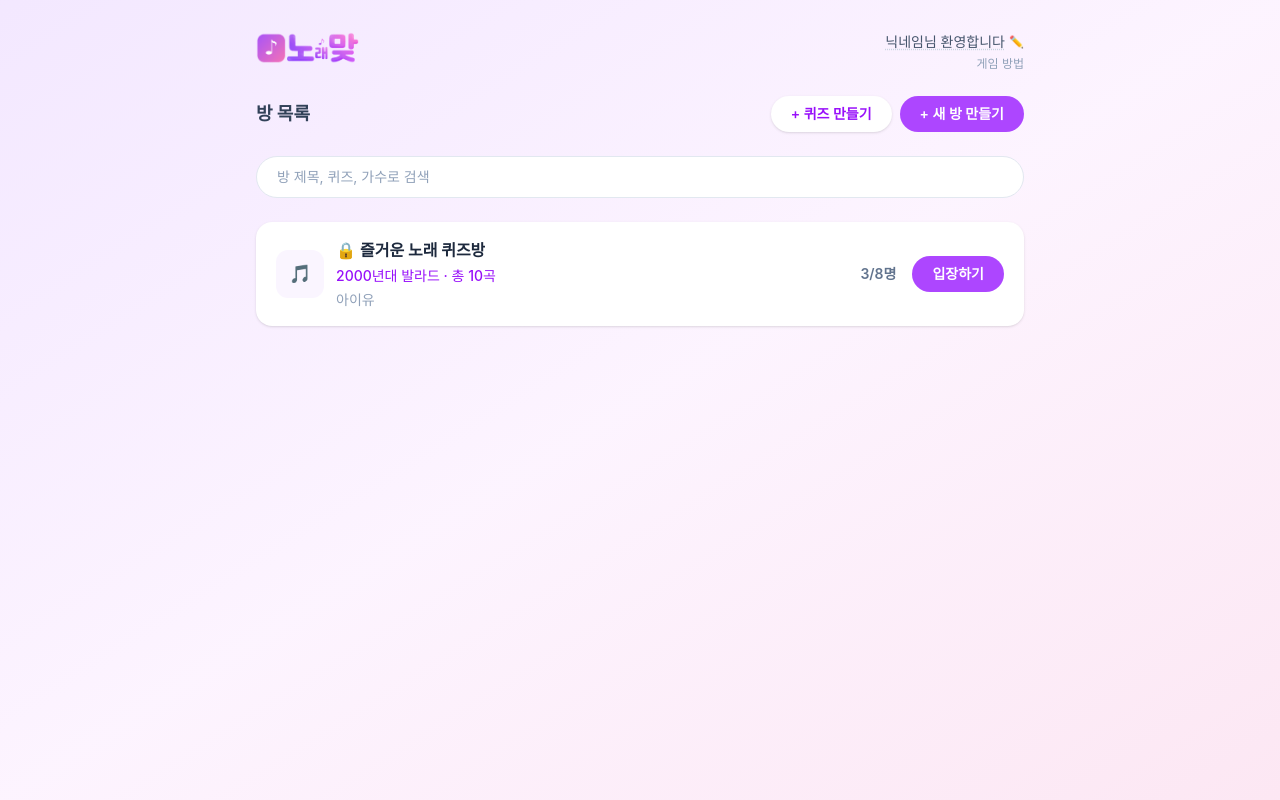
Test: RoomListPage › 비밀방 입장 실패 시 모달 안에 에러 메시지를 보여준다
Click the button "입장하기": (958, 274) [912, 256, 1004, 292]
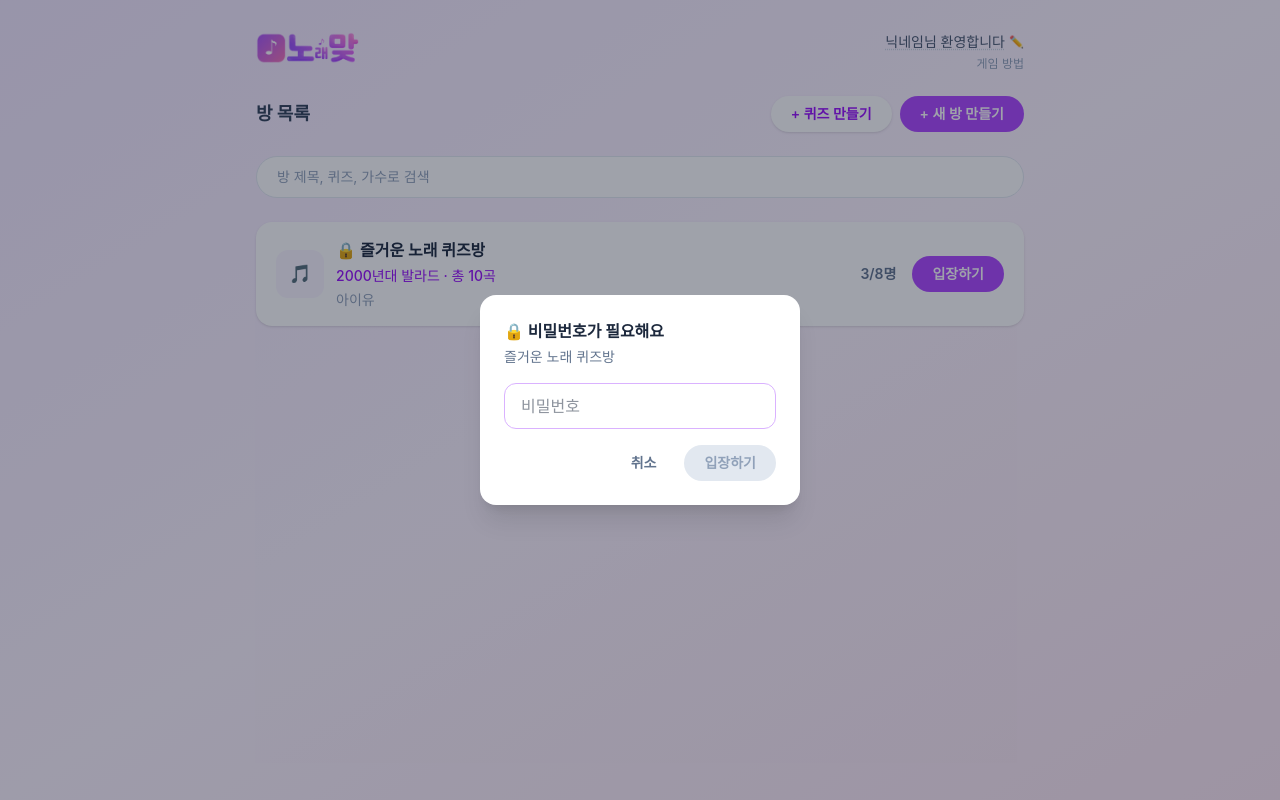
In the field with placeholder "비밀번호": (640, 406) [504, 383, 776, 429], type "wrong"
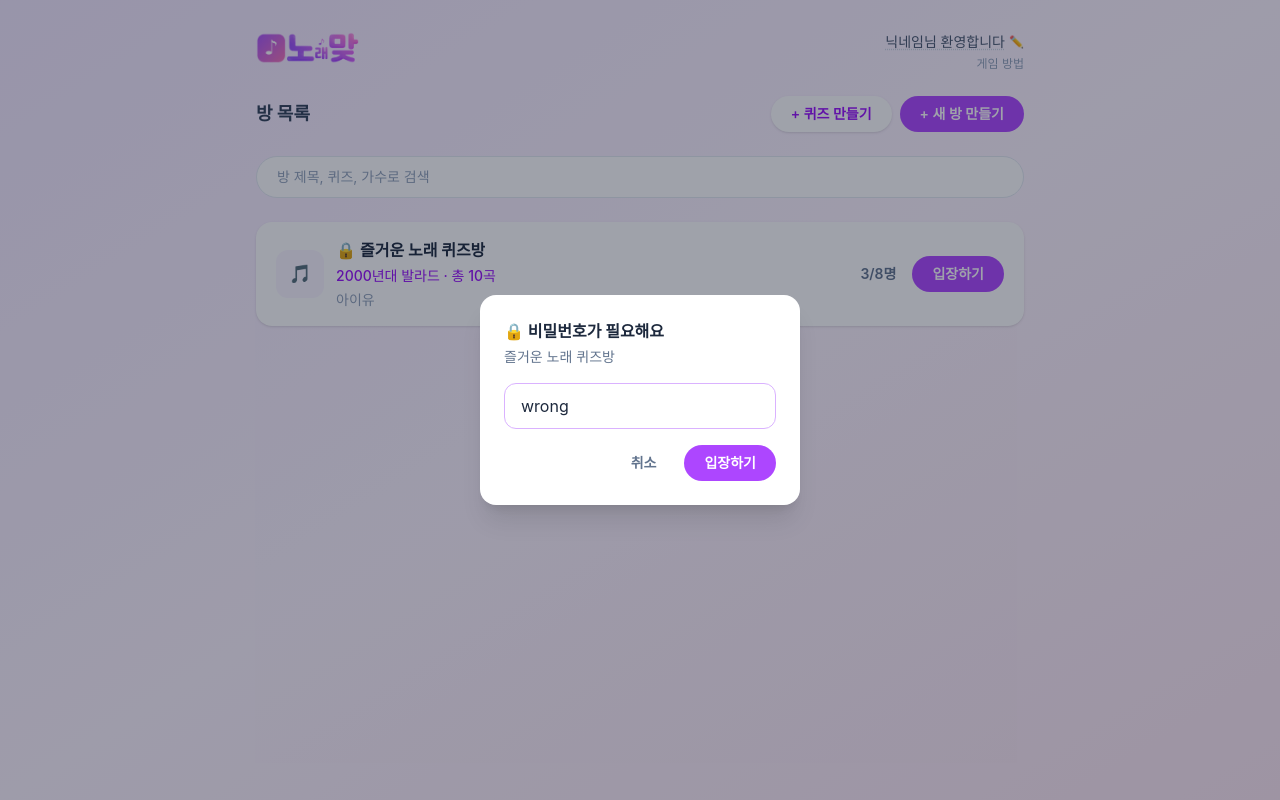
Click the button "입장하기": (730, 463) [684, 445, 776, 481]
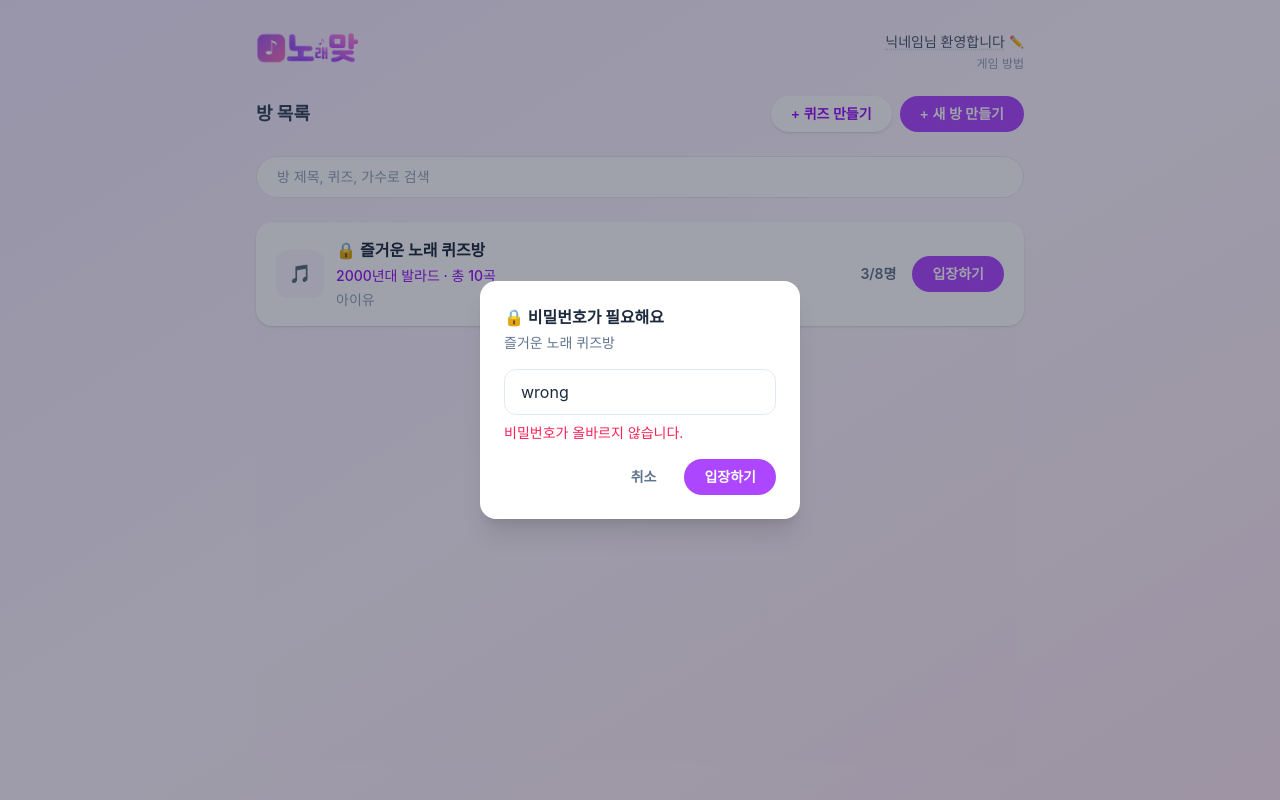
Result: the text "비밀번호가 올바르지 않습니다." is shown at [504, 424, 683, 441]
